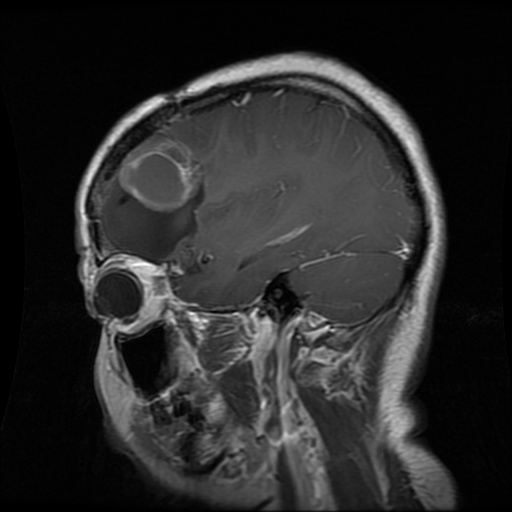glioma: (101, 135, 206, 259)
